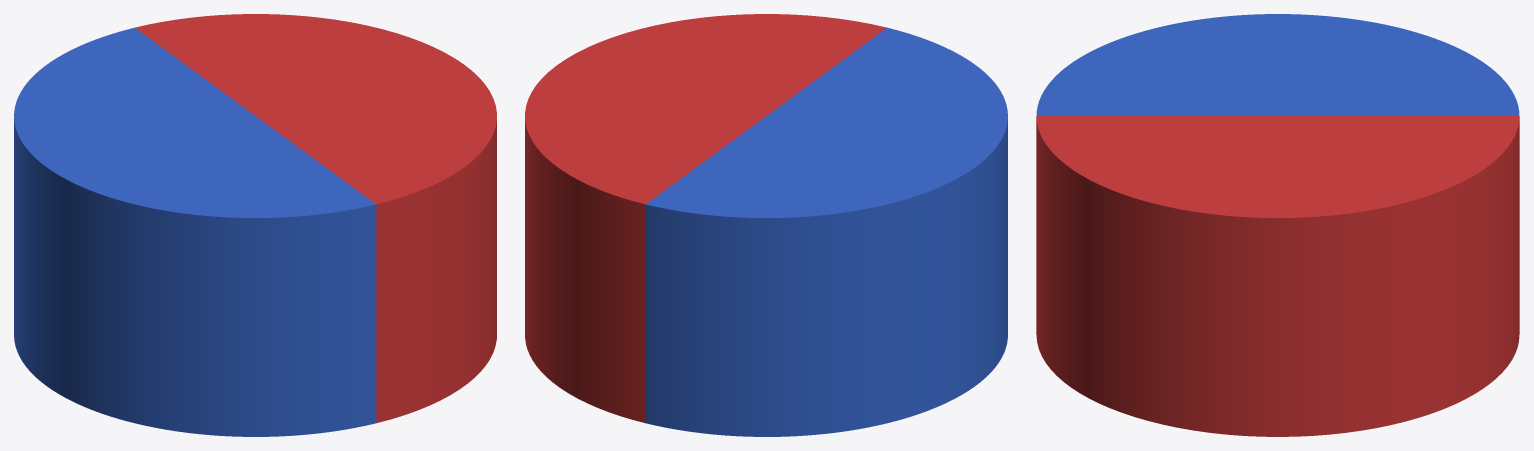
The model's file is magnet_d3x1p5_diametric.glb.
The picture shows the model from 3 angles, left to right: view 1: azimuth 30°, elevation 25°; view 2: azimuth 150°, elevation 25°; view 3: azimuth 270°, elevation 25°; orthographic projection.
Visible parts, largest first — view 1: S_half, N_half; view 2: S_half, N_half; view 3: N_half, S_half.
Boxes of the visible parts, <box> form: S_half: <box>14,27,376,436</box>; N_half: <box>135,14,496,423</box>; S_half: <box>645,27,1007,436</box>; N_half: <box>525,14,886,423</box>; N_half: <box>1036,116,1519,436</box>; S_half: <box>1036,14,1519,115</box>.
Bounding box in the file's own units: 0.003 × 0.0015 × 0.003.
